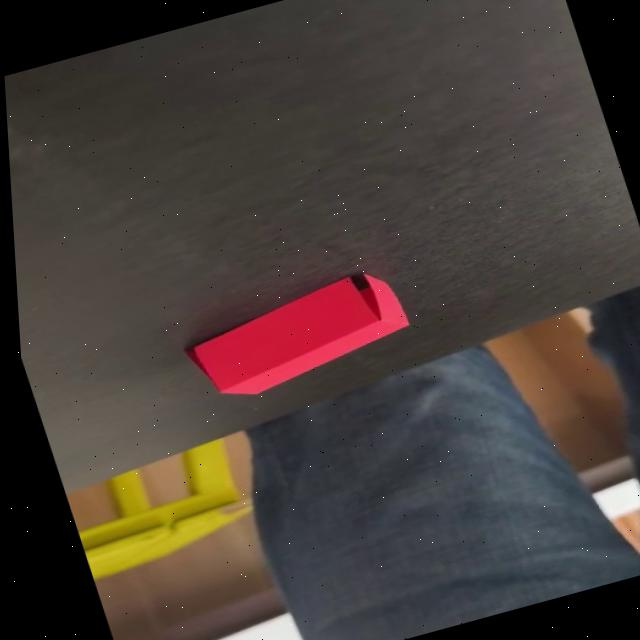red block: (172, 263, 423, 408)
